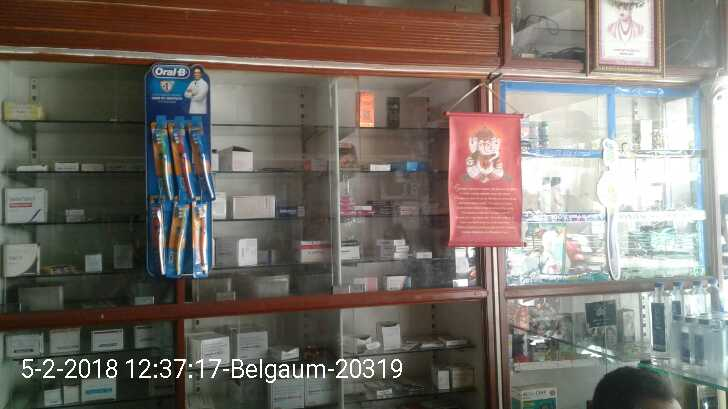oralb: (149, 118, 217, 209), (147, 204, 214, 278)
